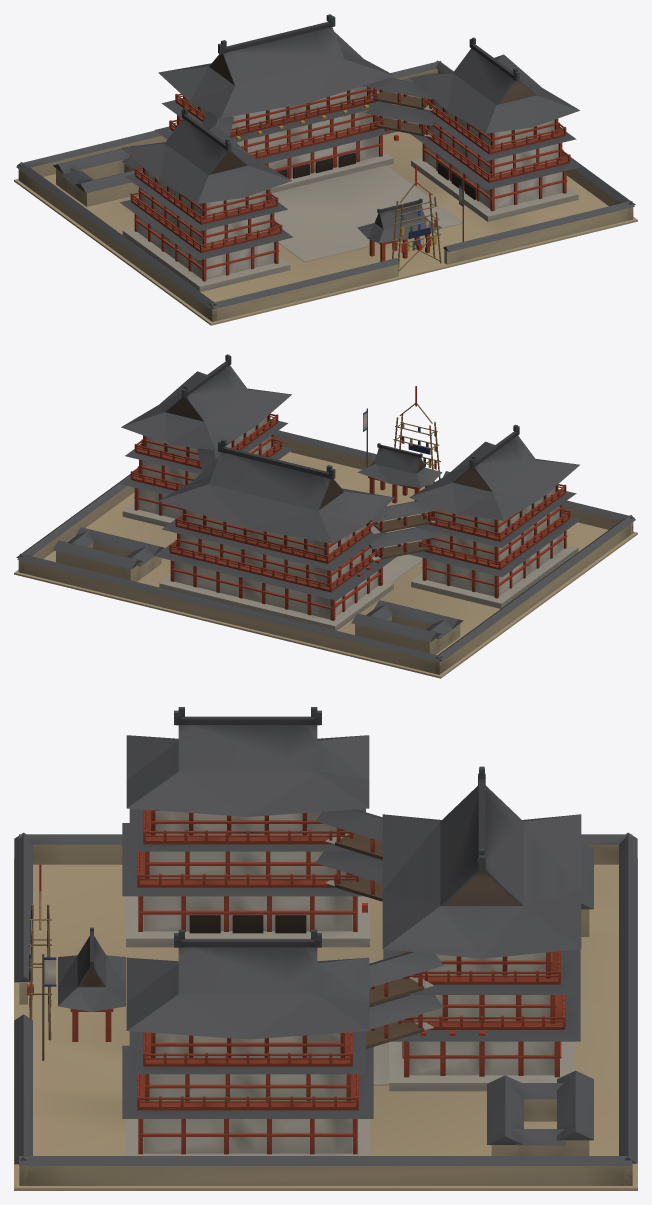
The model's file is fan-tower.glb.
The picture shows the model from 3 angles, top to bottom: view 1: azimuth 30°, elevation 25°; view 2: azimuth 150°, elevation 25°; view 3: azimuth 270°, elevation 25°; orthographic projection. The views are drawn at different scales.
Parts seen in each view (by area): view 1: p2_caimen, p0_court, p1_front; view 2: p1_front, p2_caimen, p0_court; view 3: p2_caimen, p0_court, p1_front.
Part boxes in pixels (x1,y1,x2,y2): p2_caimen: (120, 14, 581, 272); p0_court: (14, 60, 637, 325); p1_front: (52, 72, 578, 291); p1_front: (52, 413, 578, 654); p2_caimen: (120, 354, 581, 600); p0_court: (14, 430, 637, 678); p2_caimen: (27, 707, 581, 1118); p0_court: (14, 832, 637, 1190); p1_front: (58, 809, 593, 1155).
Bounding box in the file's own units: 80 × 24.61 × 64.
